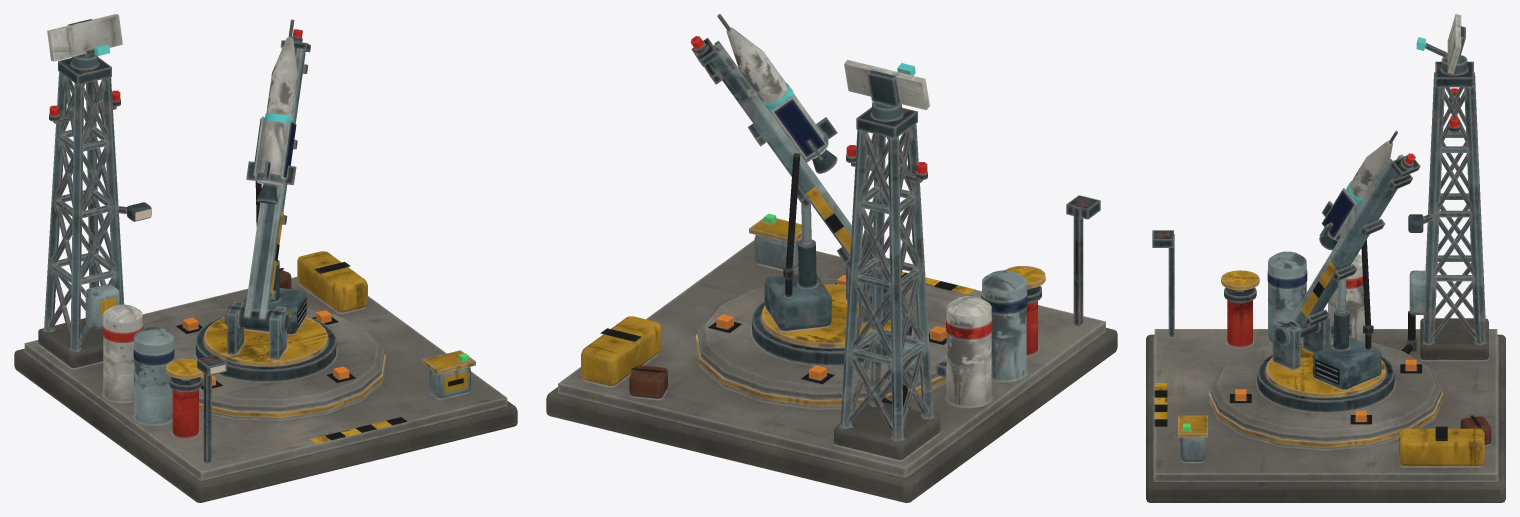
File: probe_launcher.glb
3 views of the same model, side by side, from view 1: azimuth 30°, elevation 25°; view 2: azimuth 150°, elevation 25°; view 3: azimuth 270°, elevation 25° (orthographic). The views are drawn at different scales.
Visible parts, largest first — view 1: te_probe_launcher, move_scope, move_sensor; view 2: te_probe_launcher, move_scope, move_sensor; view 3: te_probe_launcher, move_scope, move_sensor.
Boxes of the visible parts, <box> form: te_probe_launcher: <box>14,57,517,502</box>; move_scope: <box>195,19,336,382</box>; move_sensor: <box>47,14,122,69</box>; te_probe_launcher: <box>546,107,1117,502</box>; move_scope: <box>690,14,911,365</box>; move_sensor: <box>844,59,929,121</box>; te_probe_launcher: <box>1146,61,1505,502</box>; move_scope: <box>1257,131,1420,412</box>; move_sensor: <box>1416,14,1467,75</box>.
Bounding box in the file's own units: 0.84 × 0.8856 × 0.84.
1 material, 1 textured.
